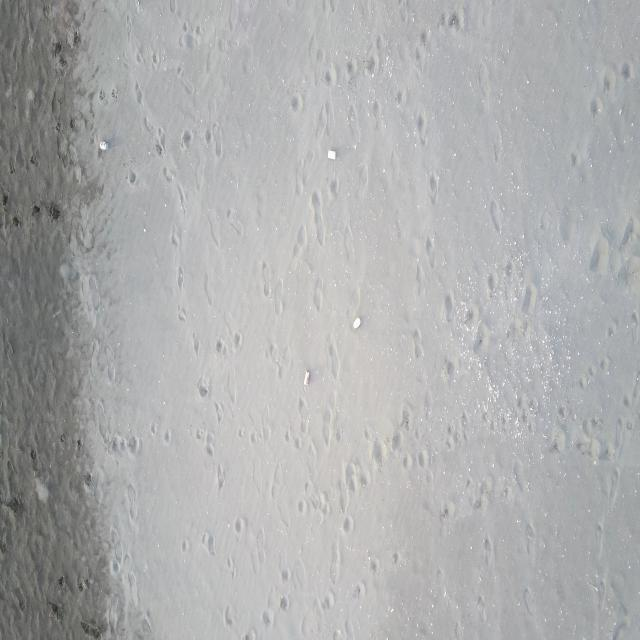tin-and-aluminum-cans: (98, 140, 109, 152), (326, 148, 336, 161), (353, 317, 362, 330), (304, 370, 310, 386)
